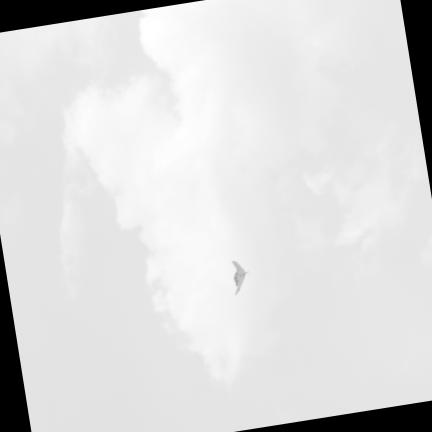Shahed: (232, 260, 246, 292)
